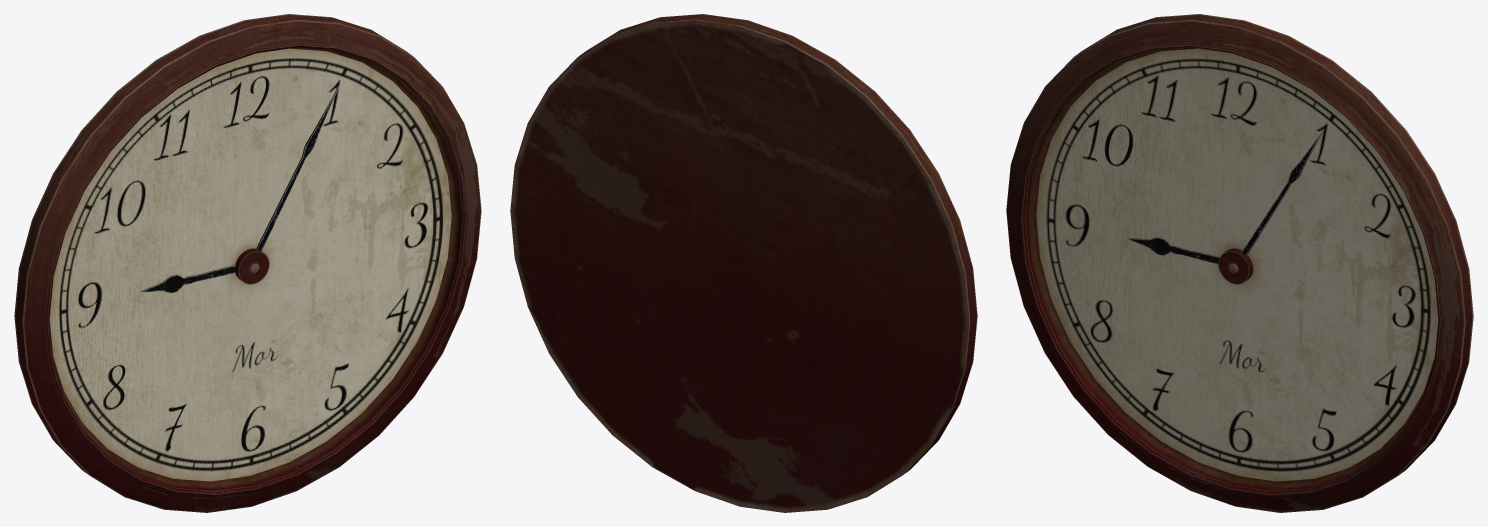
File: vintage_wooden_wall_clock_-.glb
The picture shows the model from 3 angles, left to right: view 1: azimuth 30°, elevation 25°; view 2: azimuth 150°, elevation 25°; view 3: azimuth 330°, elevation 25°; orthographic projection.
Parts seen in each view (by area): view 1: Saat, Yelkovan, Akrep; view 2: Saat; view 3: Saat, Yelkovan, Akrep.
Boxes of the visible parts, x1,y1,x2,y2 form: Saat: (14, 14, 481, 512); Yelkovan: (256, 85, 339, 251); Akrep: (140, 265, 235, 293); Saat: (510, 14, 977, 512); Saat: (1006, 14, 1473, 512); Yelkovan: (1241, 128, 1324, 256); Akrep: (1126, 237, 1219, 264).
Size of the model in its own units: 0.8447 by 0.8447 by 0.0429.
1 material, 1 textured.
